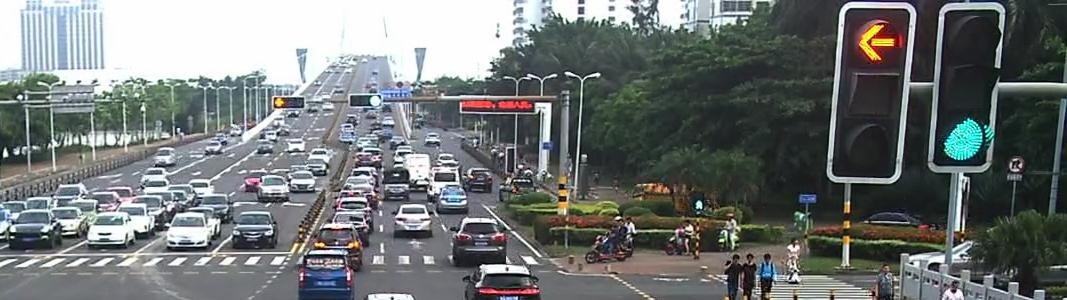green: (941, 111, 984, 163), (368, 92, 384, 108)
greenpeople: (693, 197, 705, 211)
redleft: (856, 17, 905, 62), (268, 94, 285, 110)
